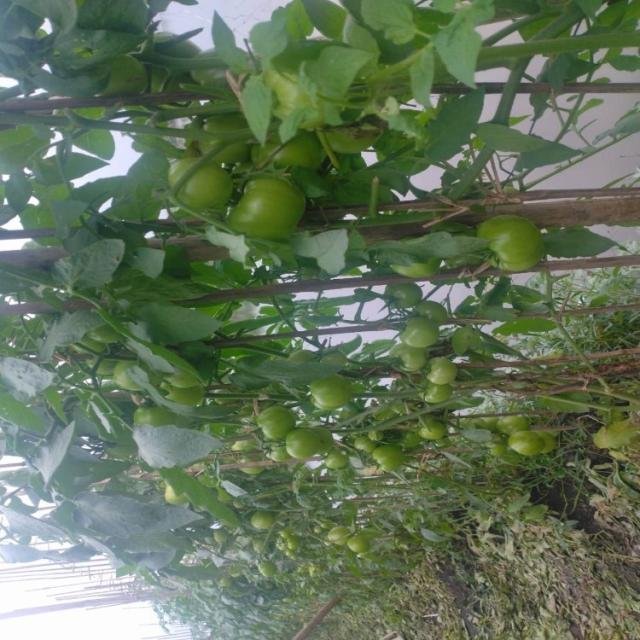tomato: (228, 177, 324, 245), (476, 208, 547, 292), (169, 147, 225, 207), (397, 311, 449, 358), (305, 371, 359, 416), (513, 429, 560, 474), (387, 338, 429, 384), (419, 352, 466, 391), (416, 370, 458, 411), (371, 444, 411, 485), (337, 524, 376, 566), (255, 398, 300, 431), (314, 437, 354, 473), (414, 413, 454, 445), (283, 430, 330, 457), (269, 529, 308, 561), (114, 355, 147, 390), (153, 468, 190, 496), (196, 527, 232, 553), (247, 509, 280, 537), (329, 519, 358, 550), (359, 425, 397, 448), (348, 435, 381, 461), (493, 405, 529, 428), (256, 553, 274, 577)
